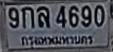0: (94, 4, 104, 26)
4: (55, 5, 65, 27)
6: (68, 5, 78, 27)
9: (81, 4, 91, 26), (8, 7, 18, 27)
A01: (21, 6, 34, 28)
A36: (36, 6, 49, 26)
BKK: (19, 35, 93, 46)
